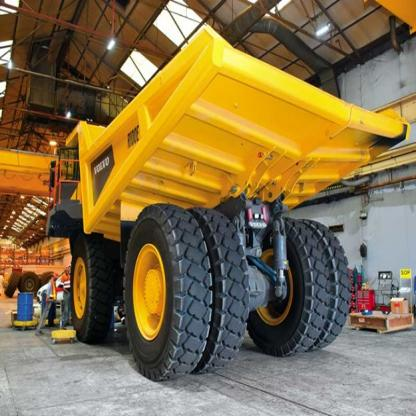dump_truck: (36, 31, 413, 385)
